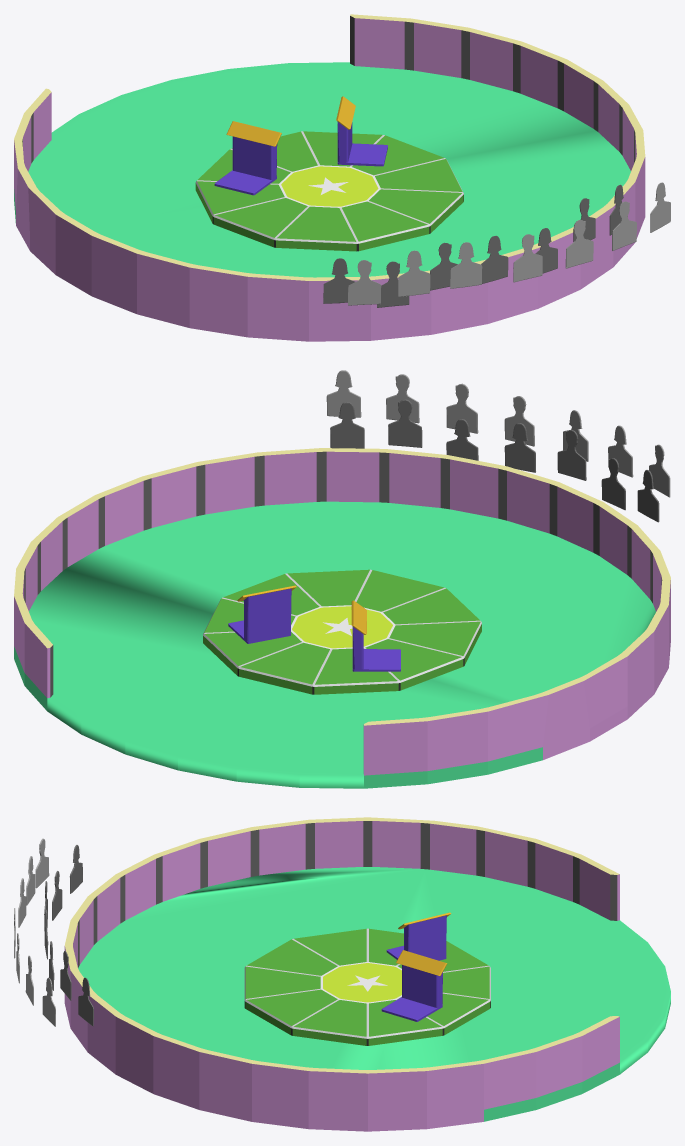
File: Competition Platform with Watchers.fbx
The picture shows the model from 3 angles, top to bottom: view 1: azimuth 30°, elevation 25°; view 2: azimuth 150°, elevation 25°; view 3: azimuth 270°, elevation 25°; orthographic projection. The views are drawn at different scales.
Visible parts, largest first — view 1: Competition Platform; view 2: Competition Platform; view 3: Competition Platform.
Boxes of the visible parts, x1,y1,x2,y2 form: Competition Platform: (14, 14, 670, 341); Competition Platform: (14, 370, 670, 788); Competition Platform: (14, 817, 670, 1131).
Bounding box in the file's own units: 1400 × 265 × 1517.
